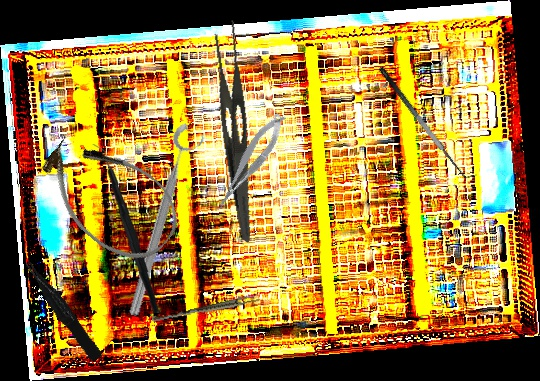Cannula: (26, 117, 193, 277)
Chopper: (84, 143, 167, 314)
Dressing Forceps: (202, 18, 276, 243)
Fixation Ring: (122, 120, 209, 322)
Micro Scissor: (205, 109, 295, 212)
Spatula Surgical: (376, 58, 478, 187)
Tissue Forceps: (22, 254, 104, 366), (151, 291, 260, 327)
